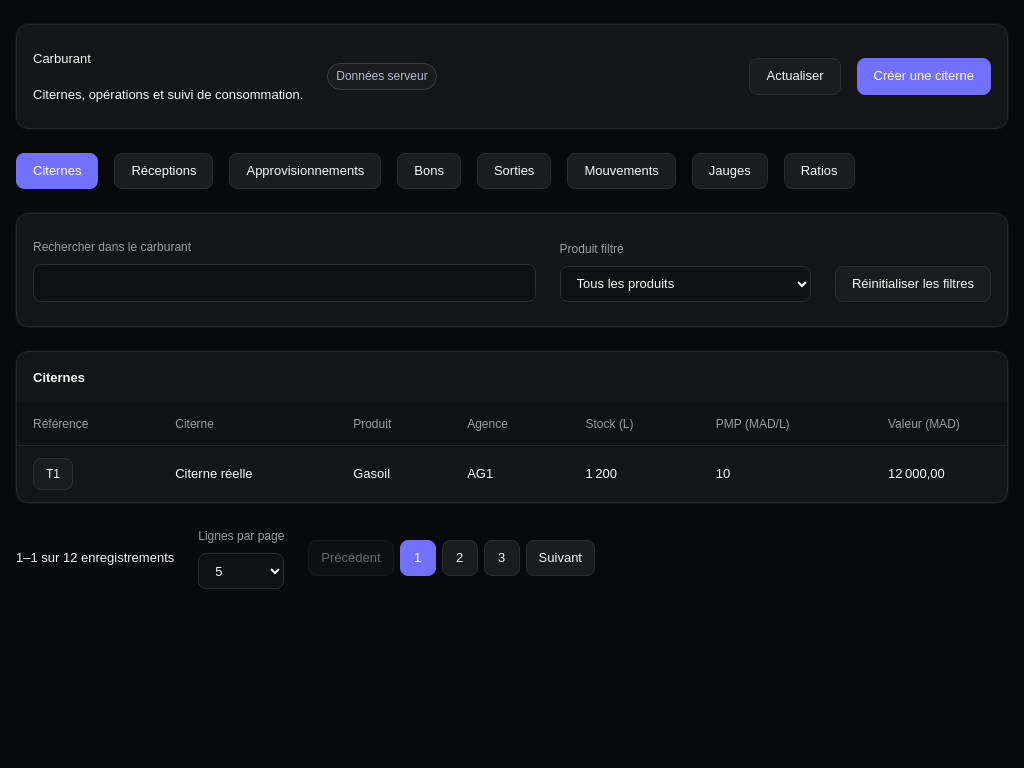
Fuel connected presentation › uses server totals, pagination and search
Expected: the text "1–1 sur 12 enregistrements" is shown, [16,548,174,568]
Click the button "Suivant" at (560, 558), box [526,540,595,576]
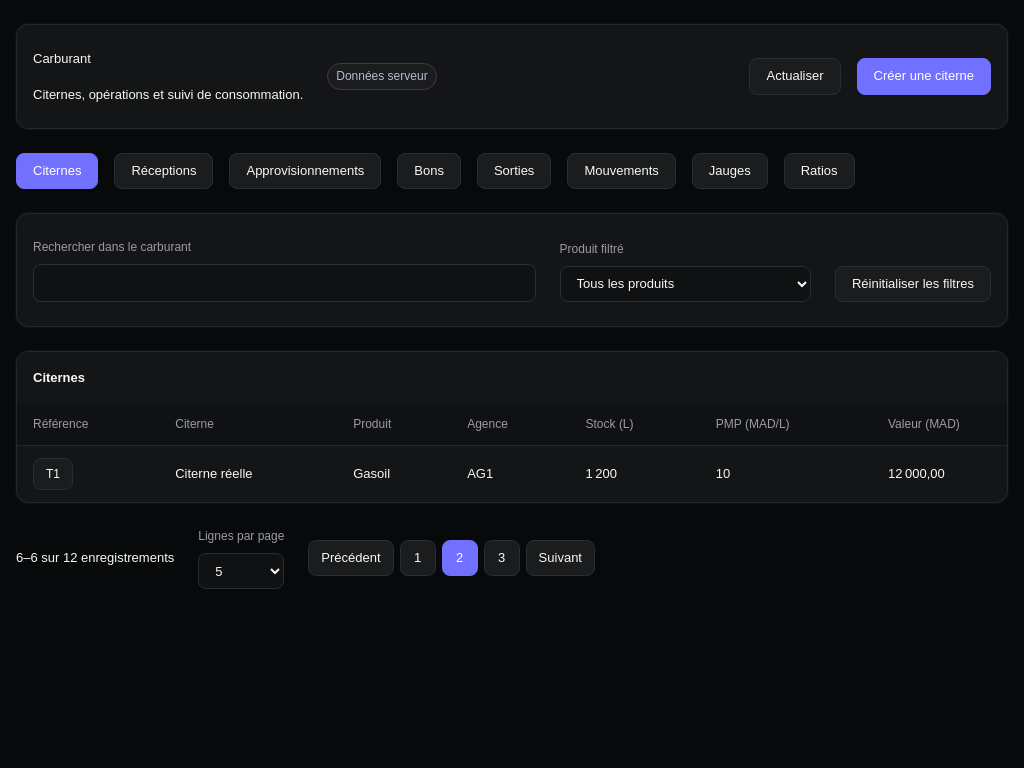
Expected: the text "6–6 sur 12 enregistrements" is shown, [16,548,174,568]
Type "Réel" into the field labelled "Rechercher dans le carburant" at (284, 283), box [33,264,536,302]
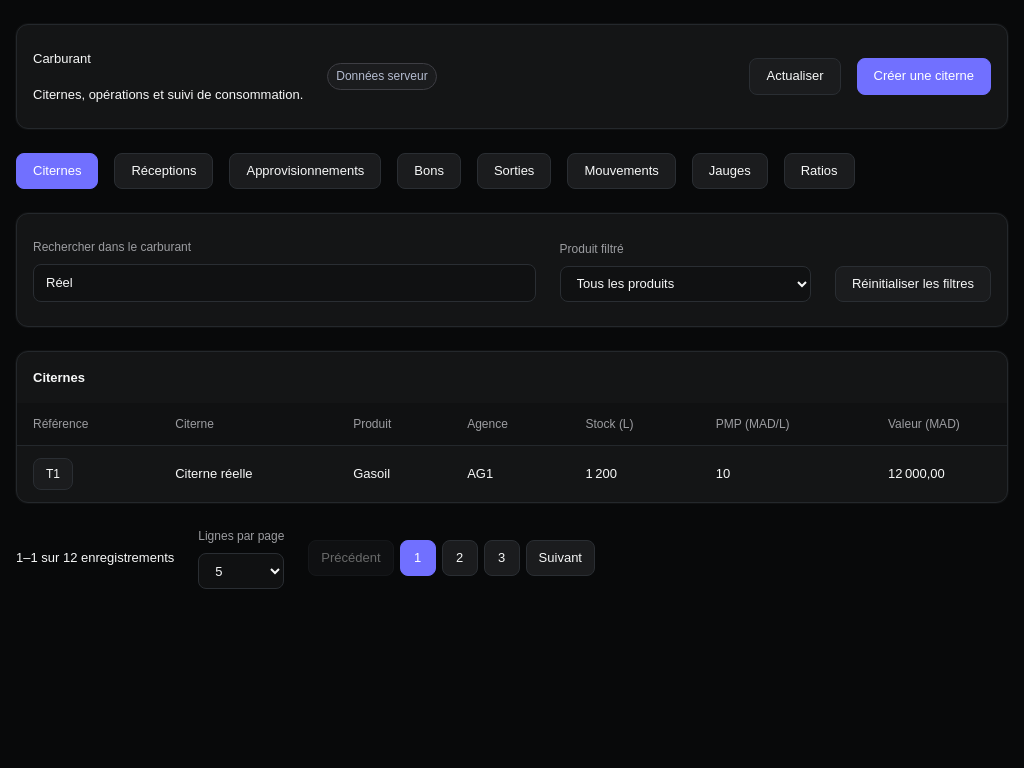
Expected: the text "1–1 sur 12 enregistrements" is shown, [16,548,174,568]
